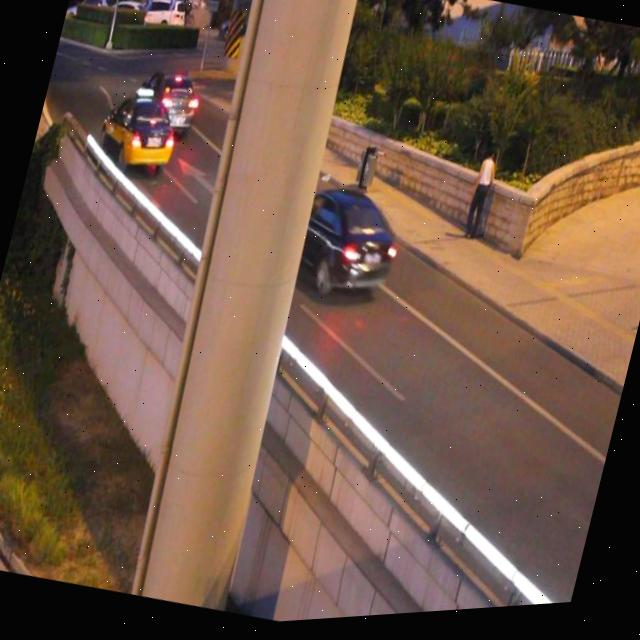car: (272, 180, 406, 313), (98, 89, 180, 179), (131, 69, 201, 140)
